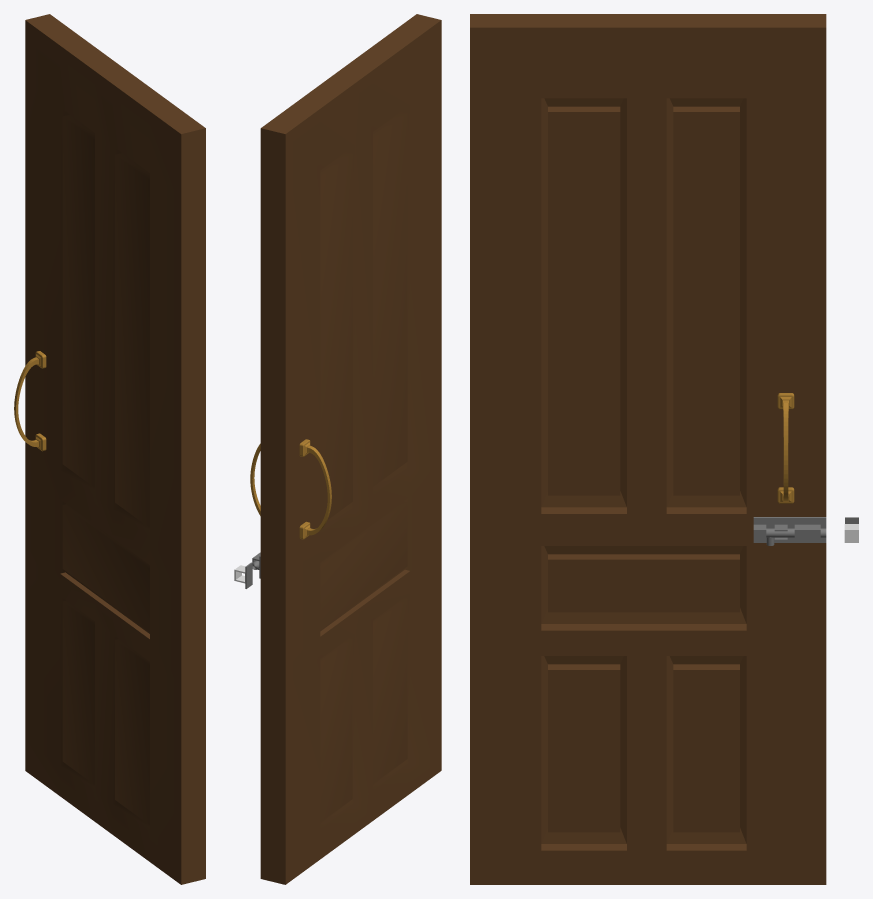
Rendered from Door2 1.fbx.
The picture shows the model from 3 angles, left to right: view 1: azimuth 30°, elevation 25°; view 2: azimuth 150°, elevation 25°; view 3: azimuth 270°, elevation 25°; orthographic projection. The views are drawn at different scales.
Parts seen in each view (by area): view 1: Cube.037, holder.001; view 2: Cube.037, holder.001; view 3: Cube.037, Cube.039, holder.003.
Part boxes in pixels (x1,y1,x2,y2): Cube.037: (25, 14, 205, 884); holder.001: (14, 351, 46, 451); Cube.037: (260, 14, 441, 884); holder.001: (299, 439, 331, 539); Cube.037: (470, 14, 826, 884); Cube.039: (753, 517, 826, 542); holder.003: (777, 393, 794, 503).
Size of the model in its own units: 46.5 by 419 by 172.
